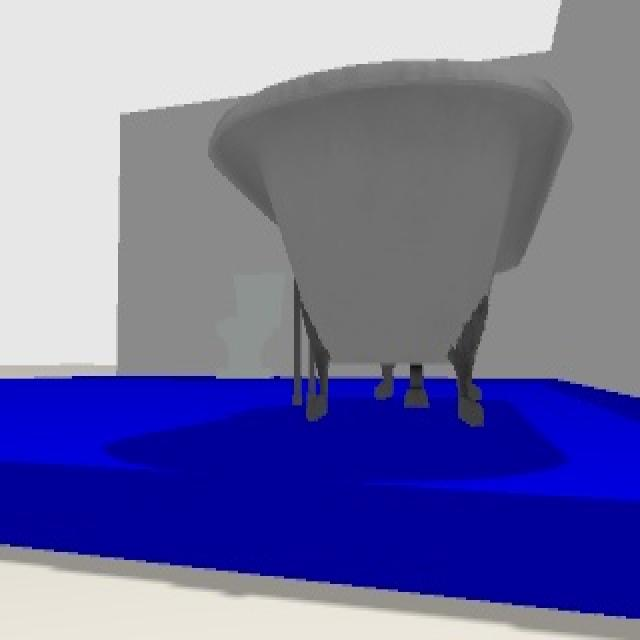bathtub: (208, 64, 576, 429)
